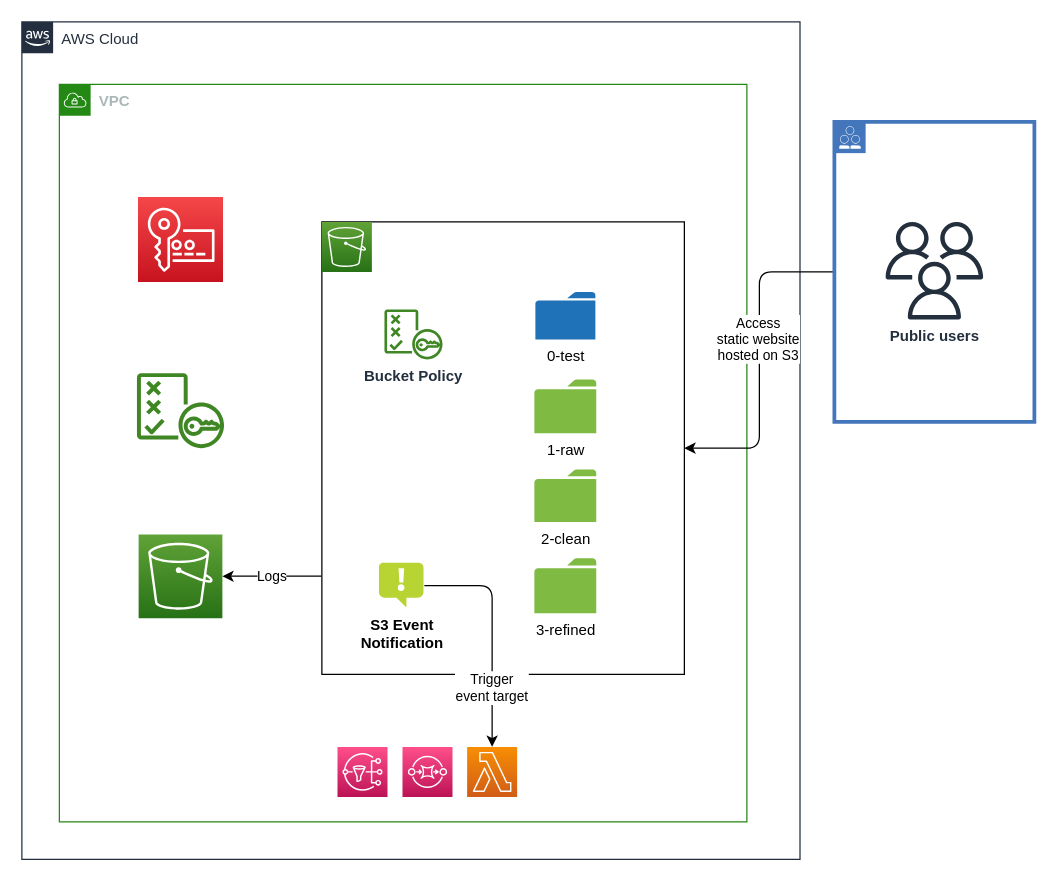
The diagram is 1058 pixels wide and 881 high, and some of its shapes have lost their labels. The box of each missing label's shape, as (x1, y1, x2, y2) in pixels:
Internet: (832, 119, 1036, 423)
KMS Key: SSE-KMS encryption: (137, 196, 223, 282)
S3 Bucket: (321, 221, 684, 674)
S3 Consumer Policy: (136, 372, 224, 448)
S3 Logging bucket: (137, 533, 222, 618)
